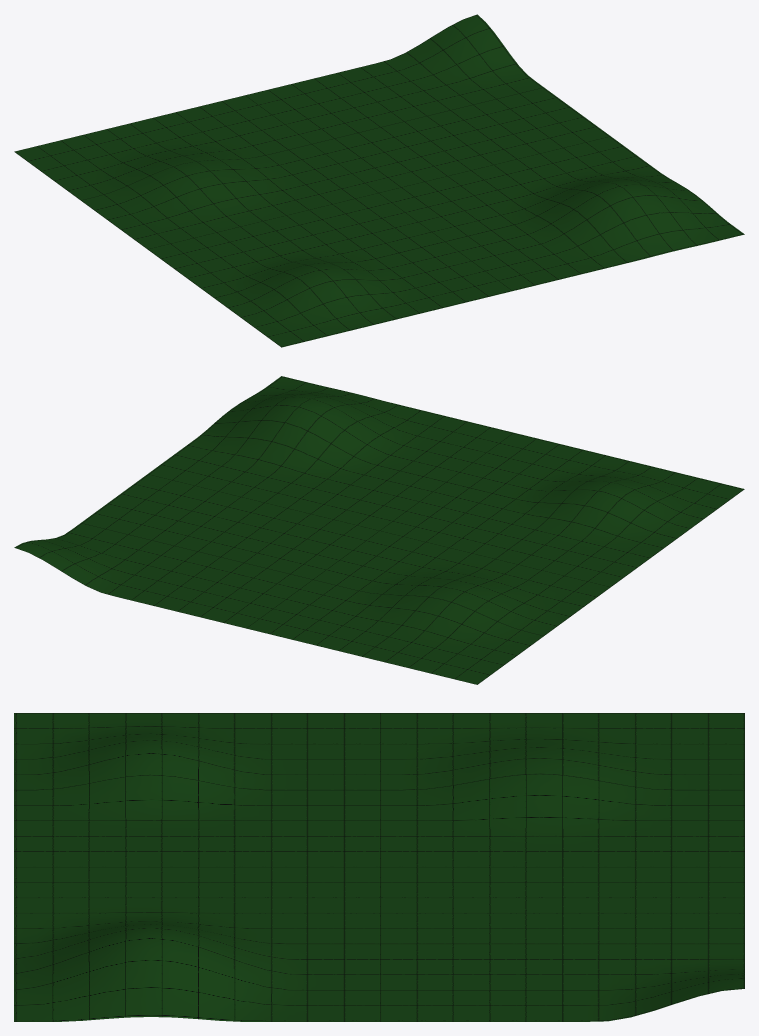
The model's file is terrain.fbx.
3 renders of one model, top to bottom at view 1: azimuth 30°, elevation 25°; view 2: azimuth 150°, elevation 25°; view 3: azimuth 270°, elevation 25°, orthographic. The views are drawn at different scales.
Visible parts, largest first — view 1: Plane001; view 2: Plane001; view 3: Plane001.
Part boxes in pixels (left/top/right/bottom): Plane001: left=14, top=14, right=744, bottom=347; Plane001: left=14, top=376, right=744, bottom=684; Plane001: left=14, top=713, right=744, bottom=1021.
Bounding box in the file's own units: 40 × 2.21 × 40.
